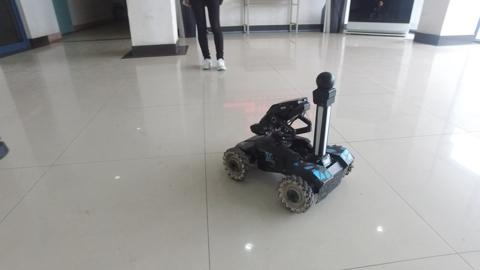chariot: (222, 70, 356, 216)
